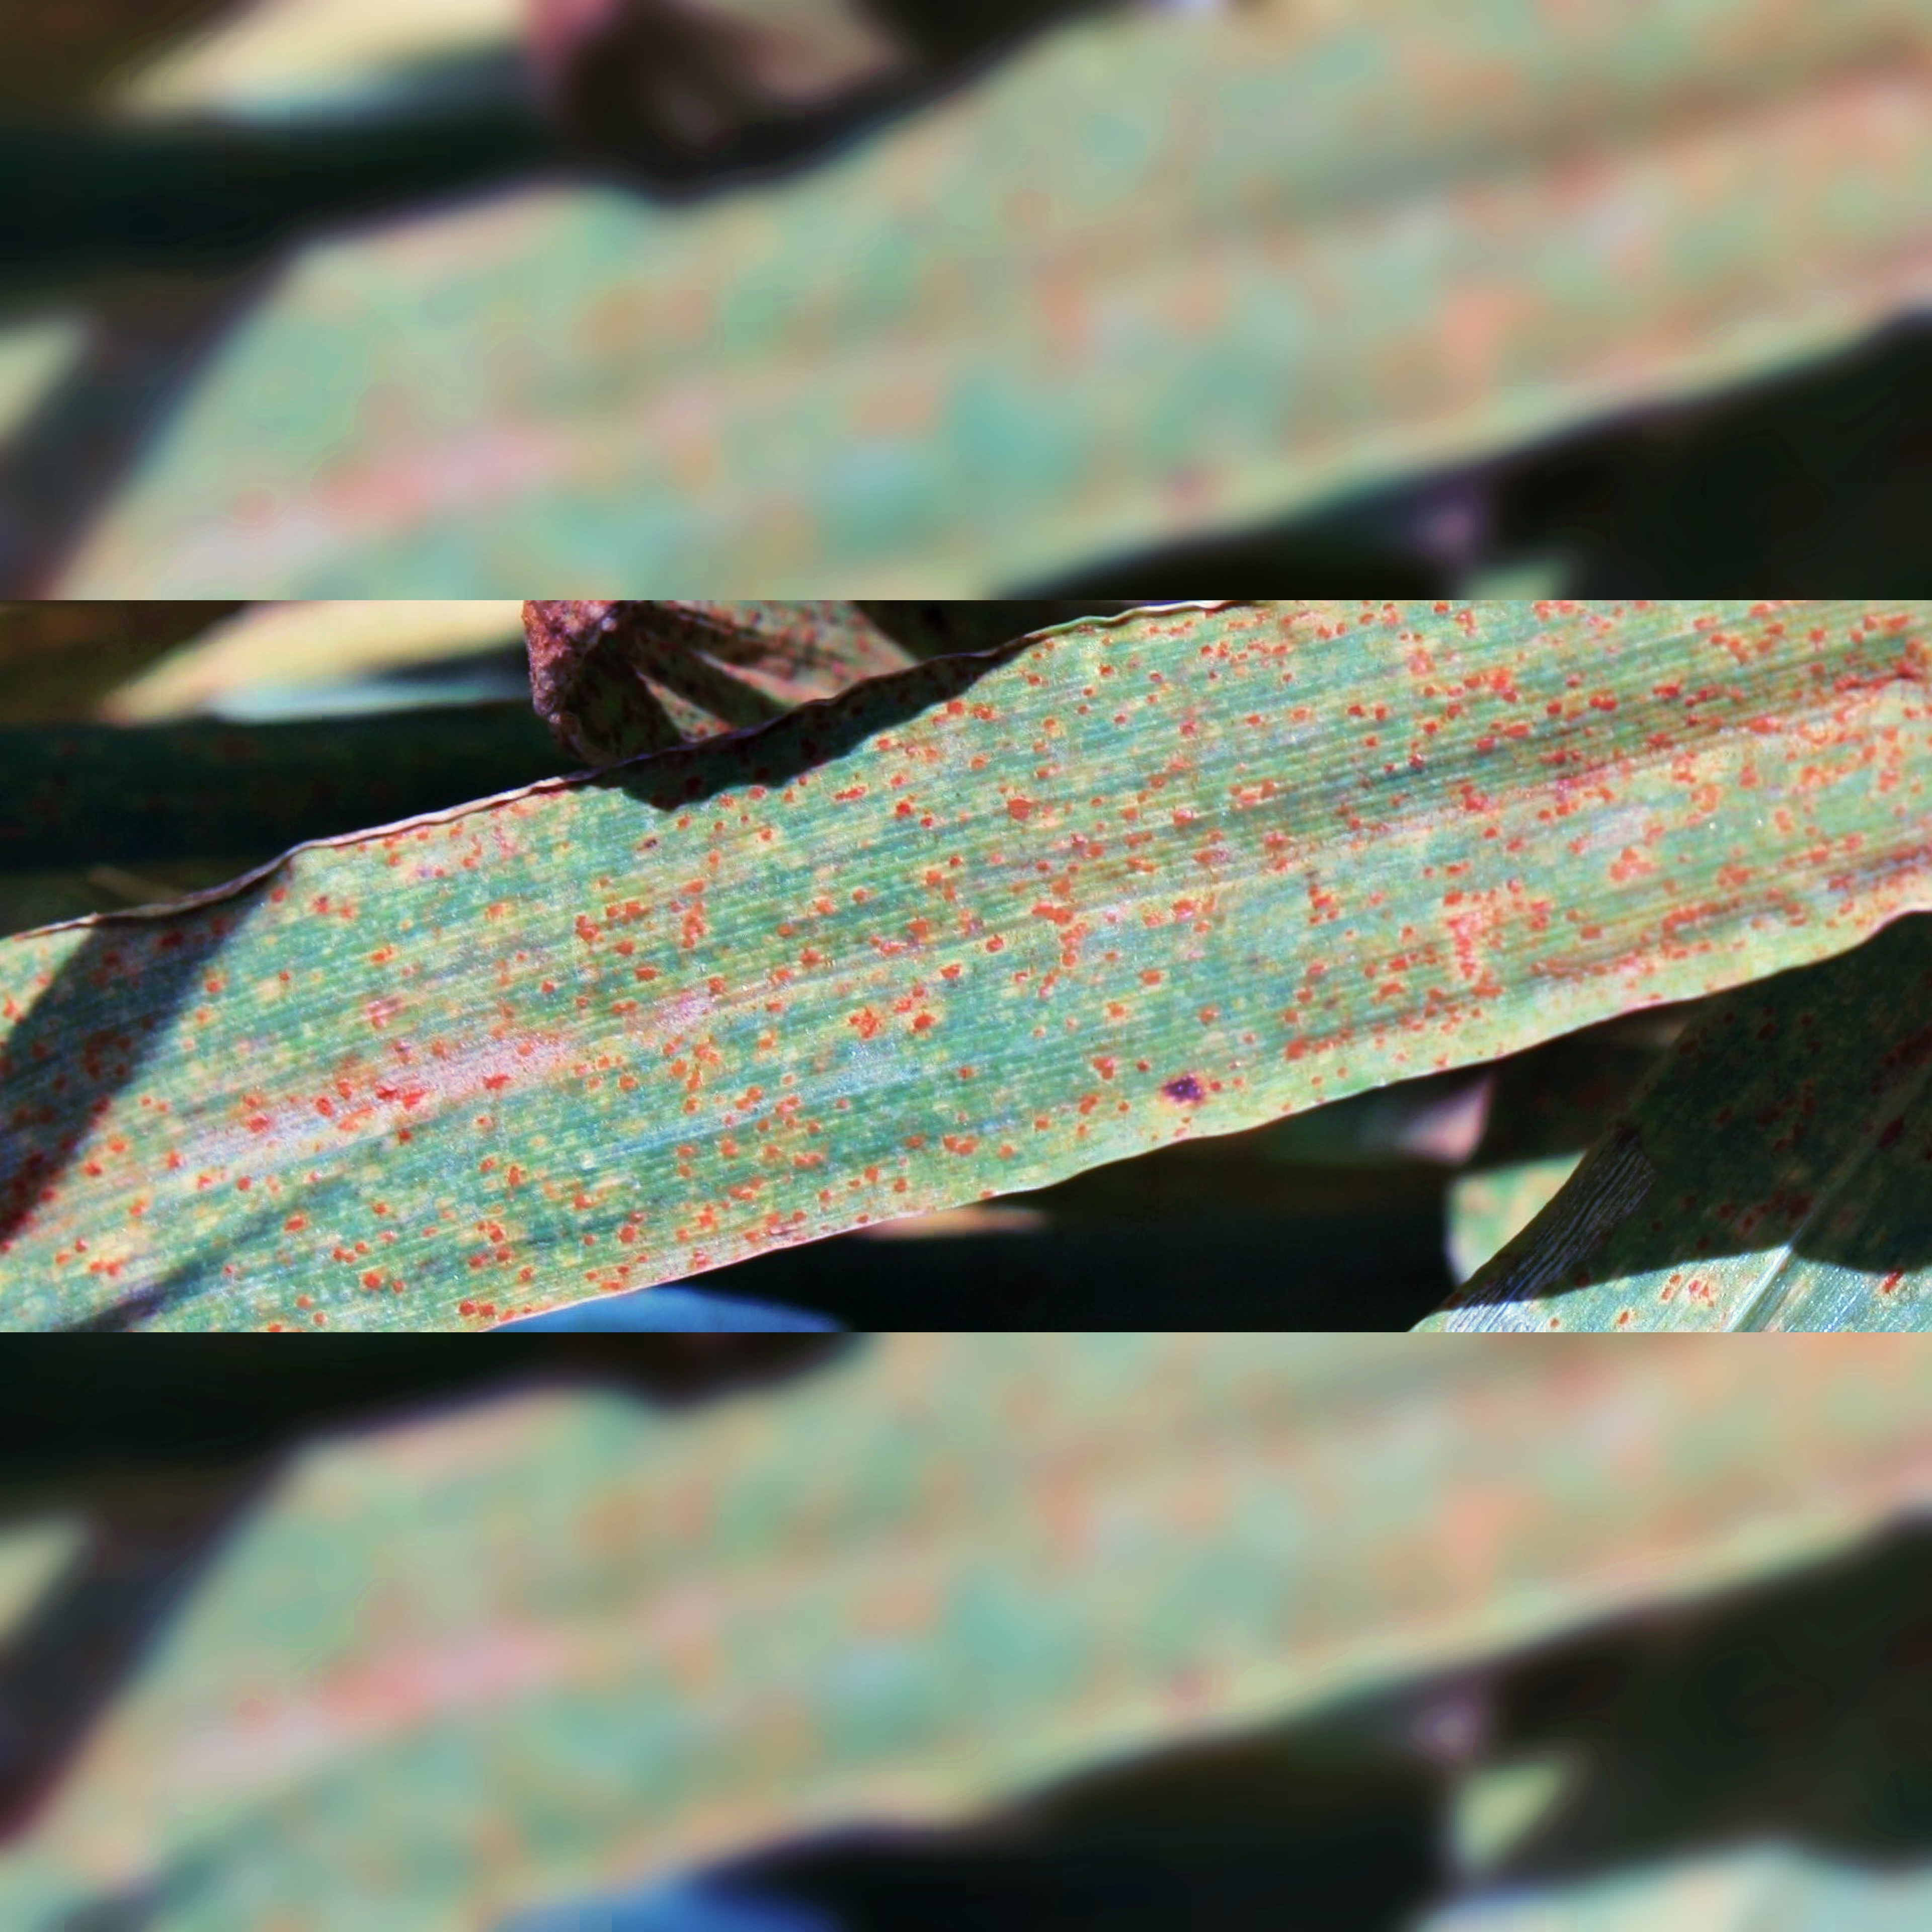Leaf Rust: (235, 607, 1881, 1306)
